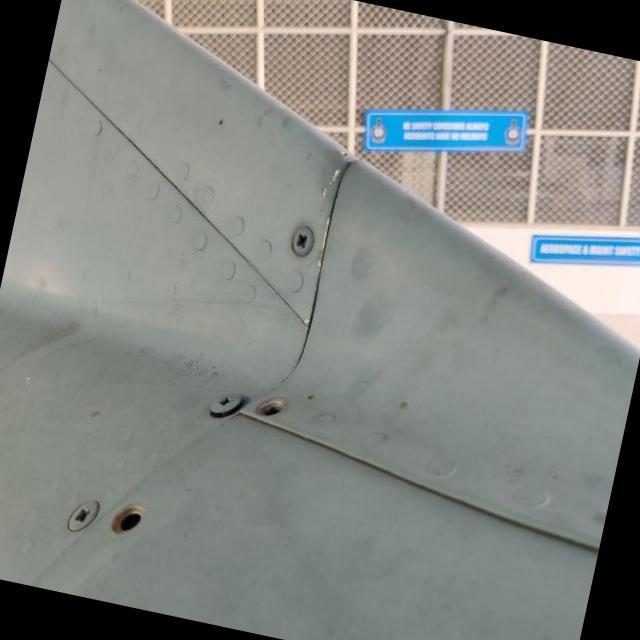Fastener Damage: (222, 361, 314, 449), (81, 478, 166, 566)
